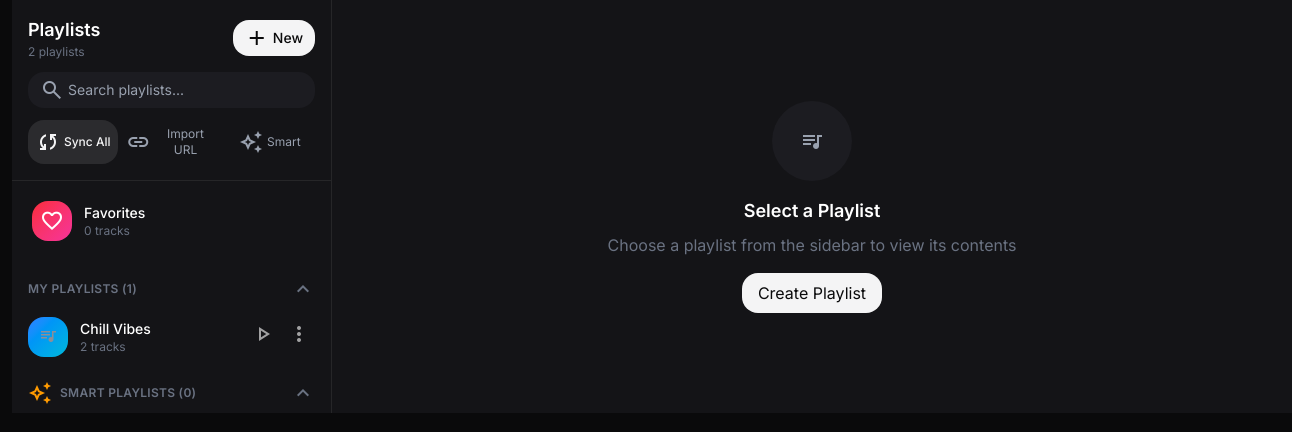
Test: PlaylistView — estados de carga y error (auditoría 5) › muestra el estado vacío solo cuando la carga terminó bien
What coordinates should you click on to do the following:
click the element showing "Chill Vibes 2 tracks"
I would click on:
 (48, 337)
Its box is [20,309,323,365].
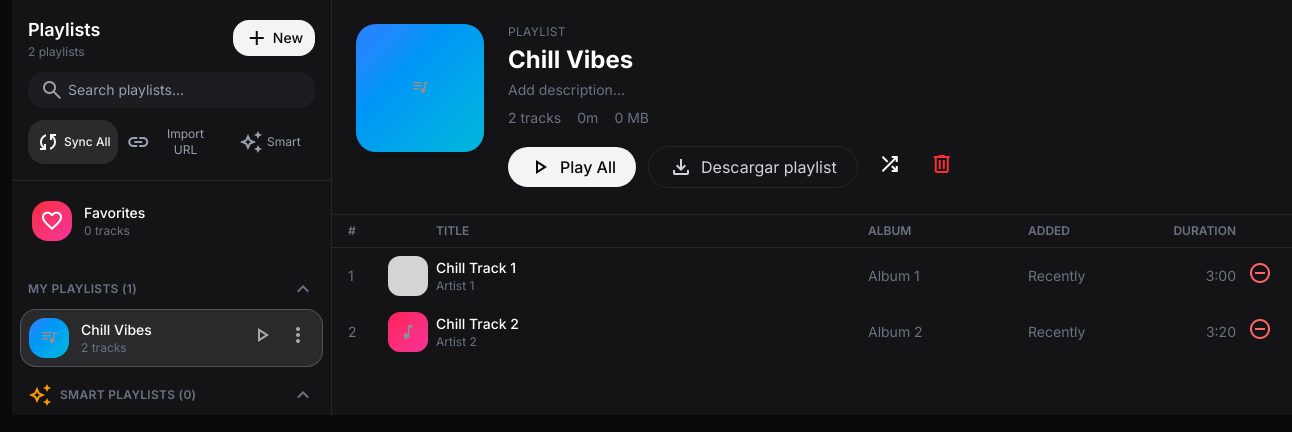
Check: the number of elements with class "track-row" is 2, box [332,248,1291,304]; [332,304,1291,360]
